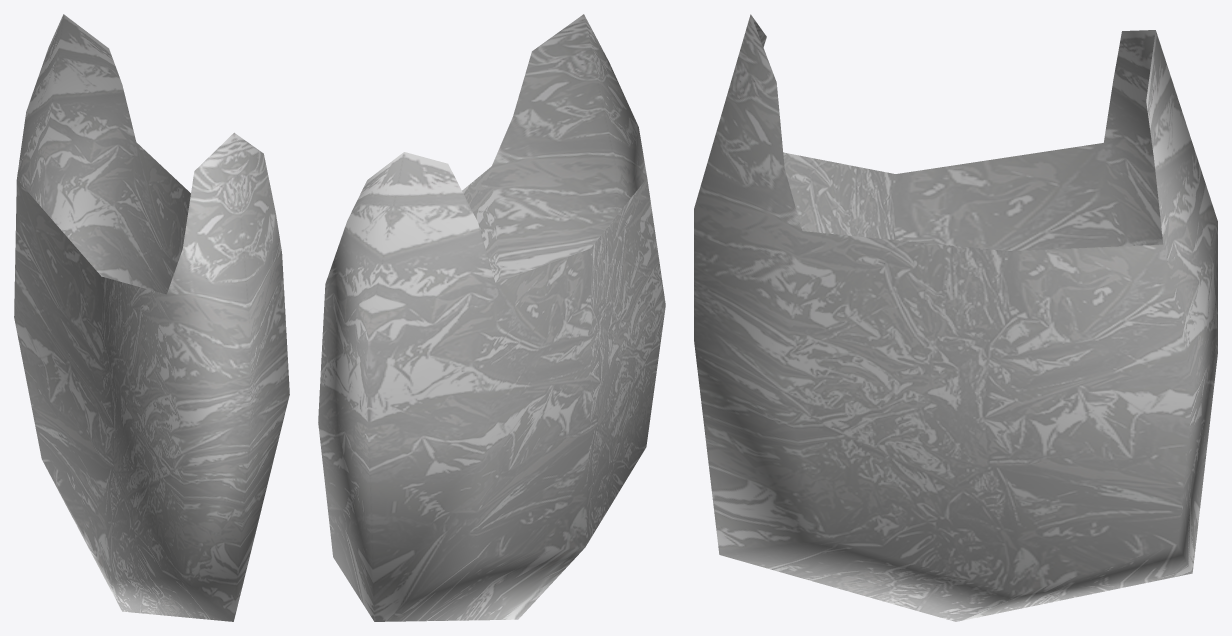
The model's file is Bag_001_Plastic_001_Standard.fbx.
The picture shows the model from 3 angles, left to right: view 1: azimuth 30°, elevation 25°; view 2: azimuth 150°, elevation 25°; view 3: azimuth 270°, elevation 25°; orthographic projection. The views are drawn at different scales.
Visible parts, largest first — view 1: Bag_001_Plastic_001_Standard2; view 2: Bag_001_Plastic_001_Standard2; view 3: Bag_001_Plastic_001_Standard2.
Boxes of the visible parts, x1,y1,x2,y2 form: Bag_001_Plastic_001_Standard2: [14, 14, 289, 621]; Bag_001_Plastic_001_Standard2: [318, 14, 665, 621]; Bag_001_Plastic_001_Standard2: [694, 14, 1217, 621].
Size of the model in its own units: 14.82 by 50.53 by 38.62.
